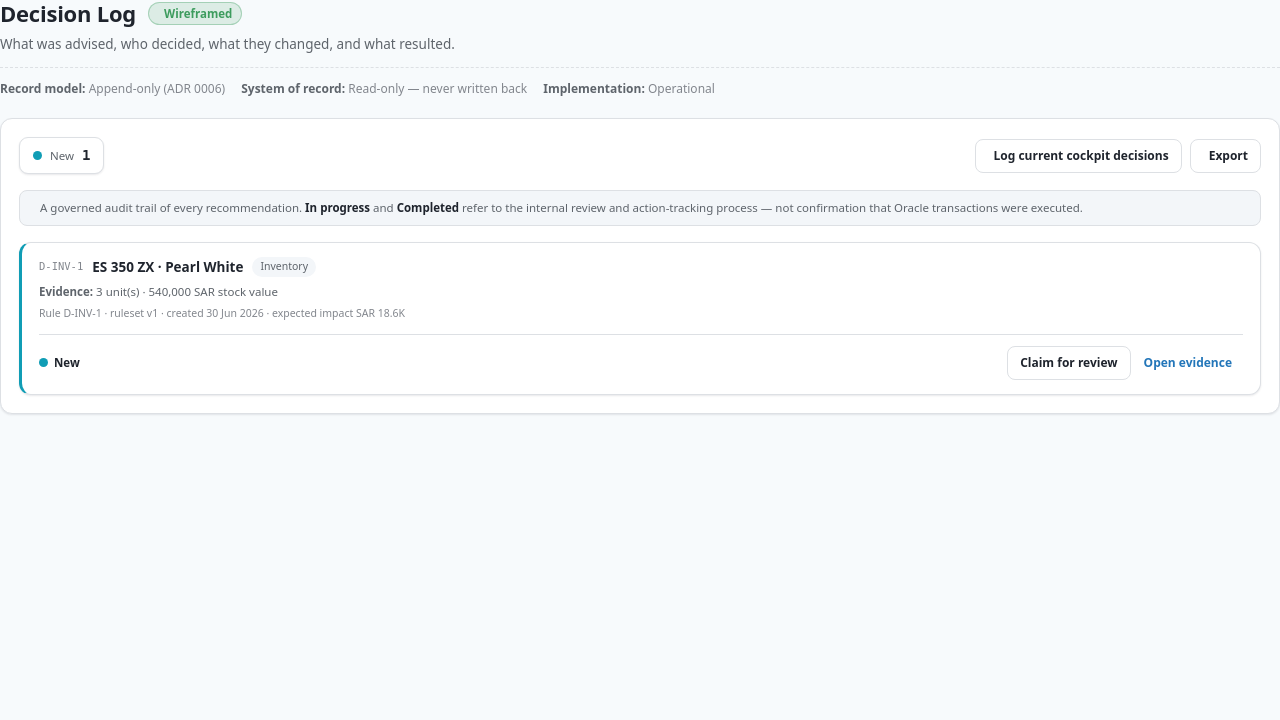
it: Decision Log — detail drawer › explains the frozen recommendation in a drawer stacked over this one (V3-UC0x-002)
This screenshot has width=1280, height=720.
Click the button "Open evidence".
click(1191, 363)  # box [1139,346,1243,380]
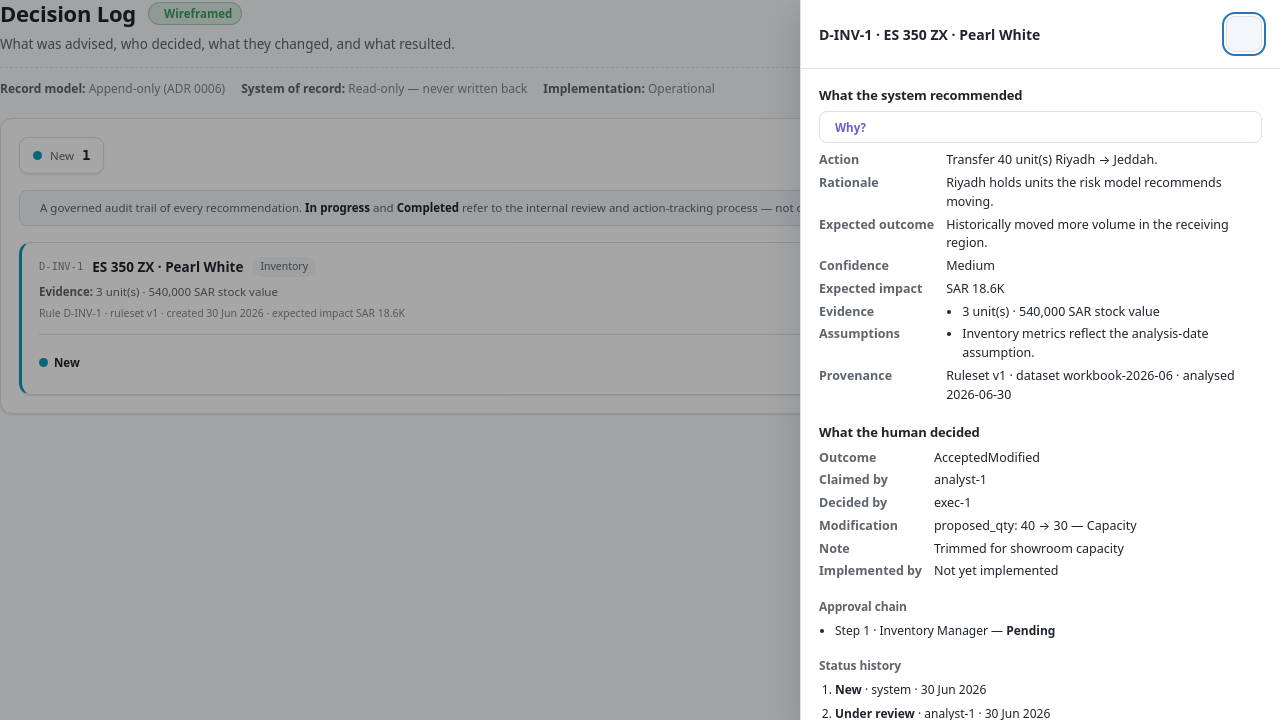
Click the button with aria-label "why this recommendation? es 350 zx · pearl white".
click(850, 127)  # box [819,111,1262,143]
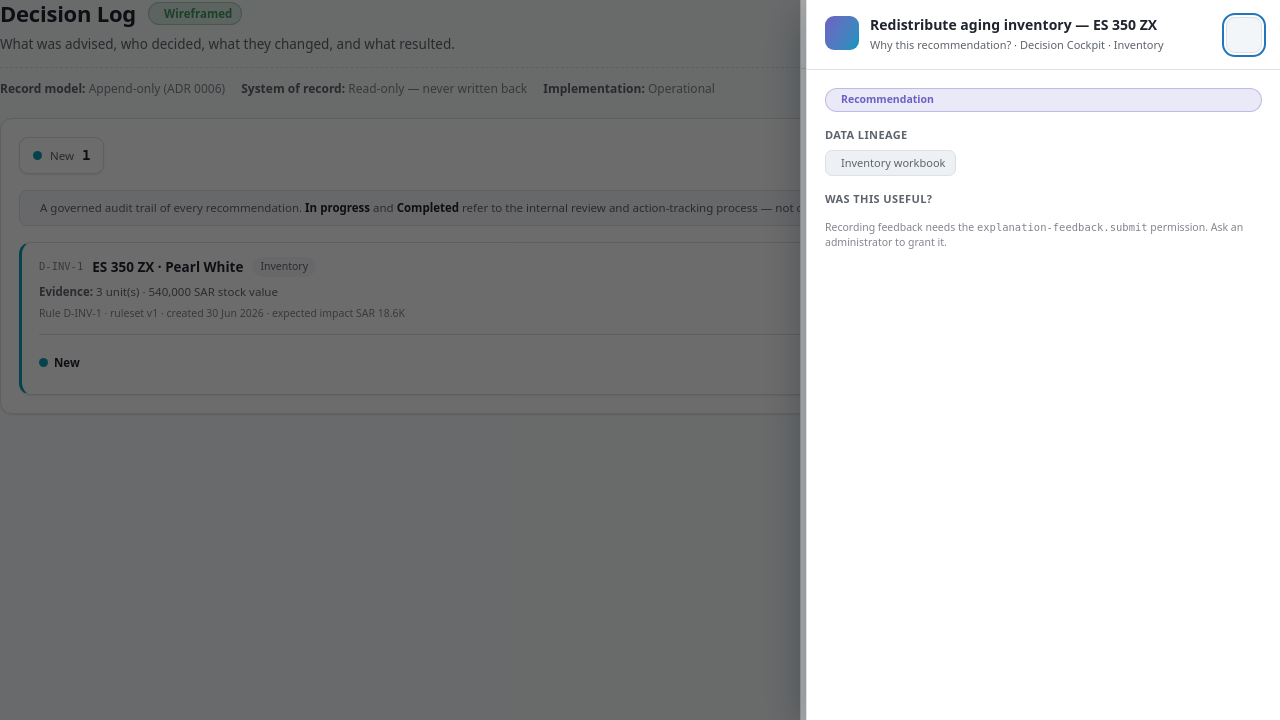
Expected: the number of dialogs is 2, [800,0,1279,719]; [806,0,1279,719]
Expected: the text "Redistribute aging inventory — ES 350 ZX" is shown, [870,16,1164,35]
Press Escape
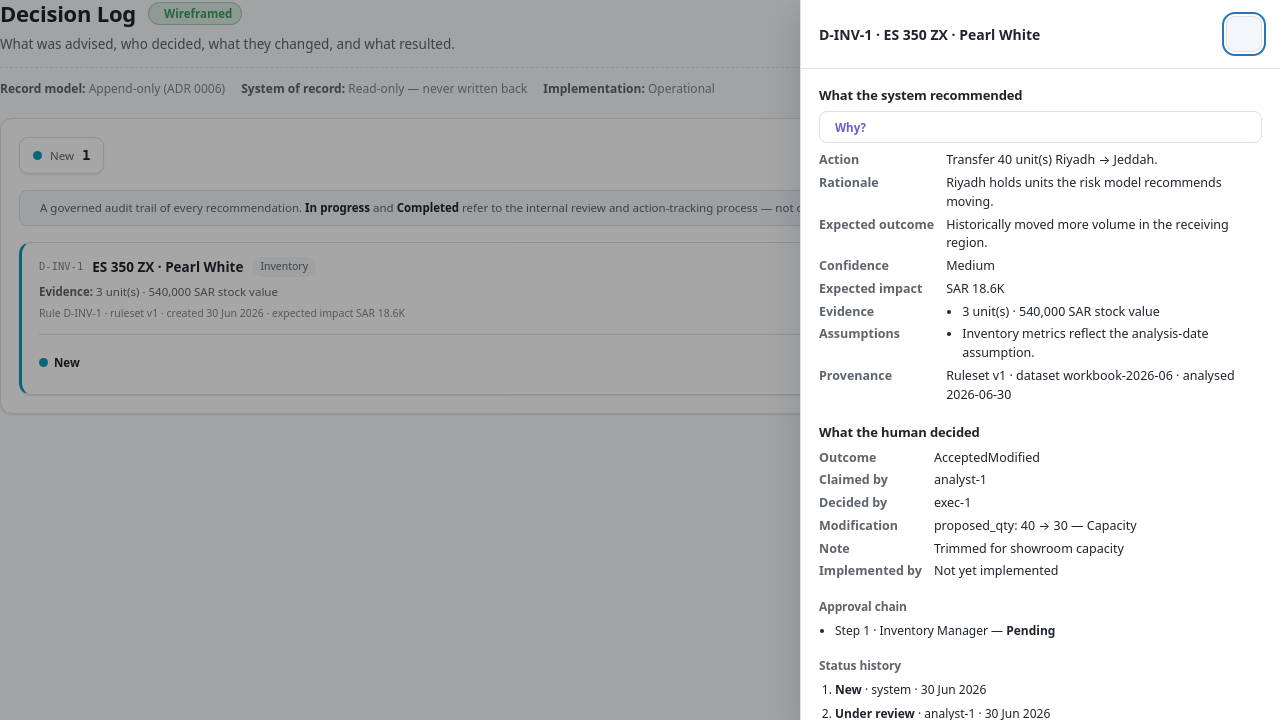
Expected: the heading "What the system recommended" is shown, [819,86,1022,104]
Expected: the number of dialogs is 1, [800,0,1279,719]
